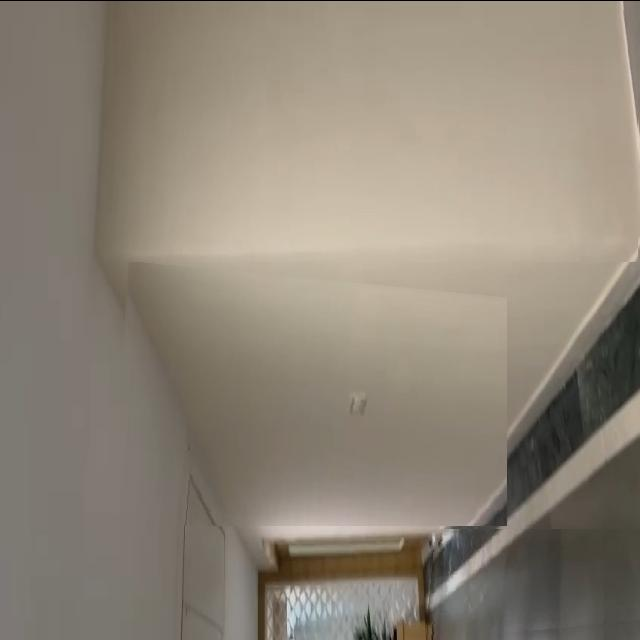floor: (425, 528, 640, 640)
wall: (86, 0, 638, 261), (111, 260, 507, 525)
